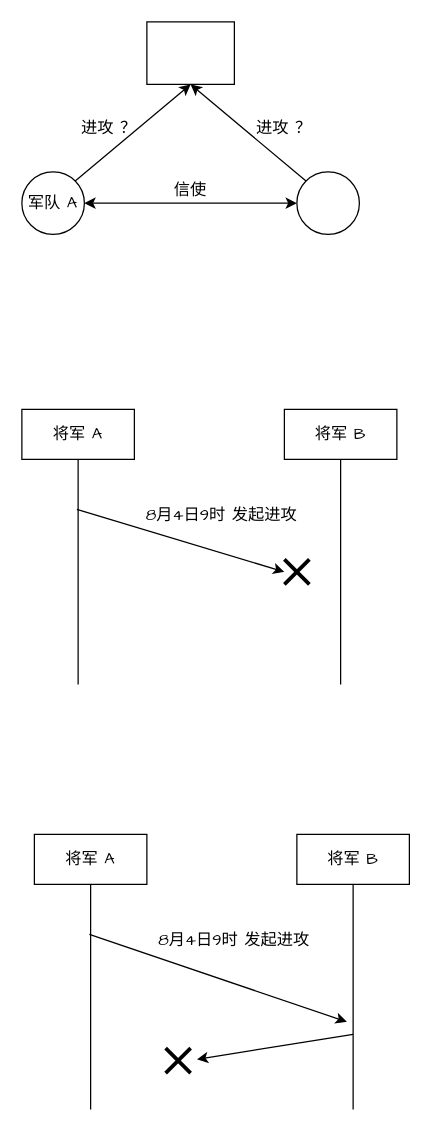
Image size: 431x1133. Some labels were removed from this diagram. Here are the shapes that lost their labels. From the top down, the centre of each, then its label:
pixel 190 52: 城市
pixel 327 202: 军队 B
